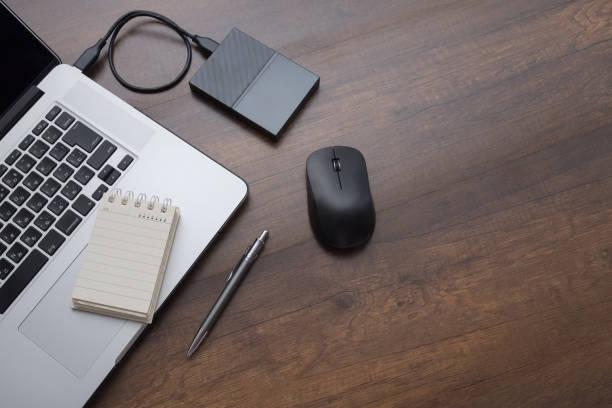HDD: (188, 29, 320, 138)
